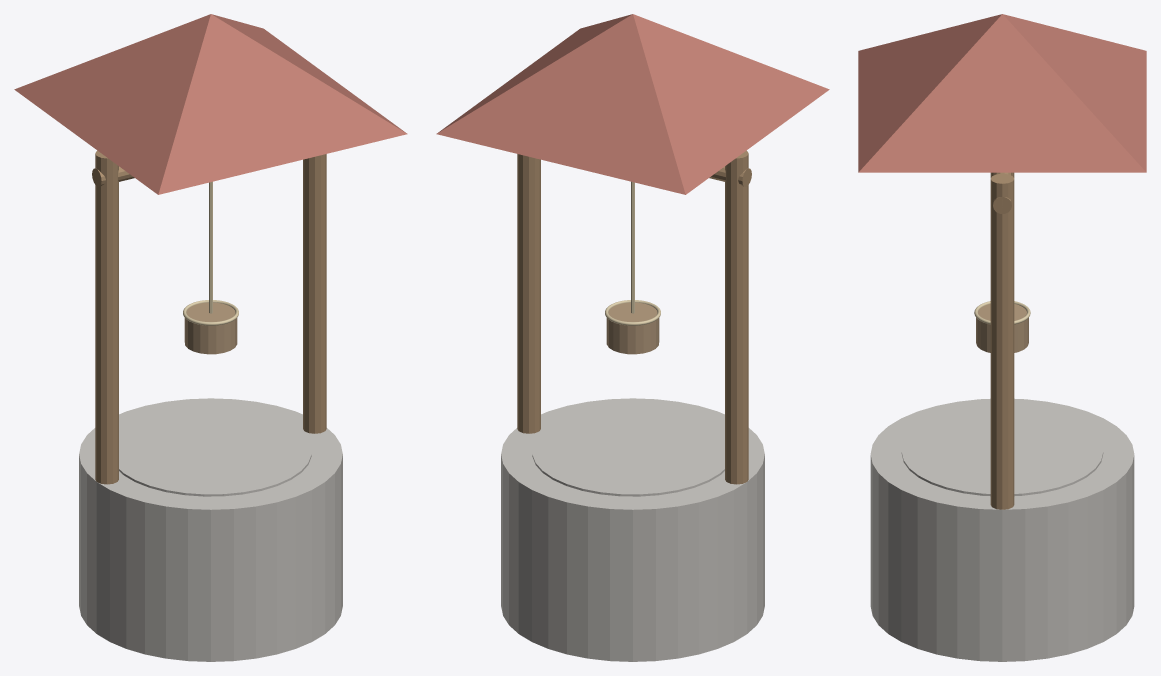
The model's file is wishing_well.glb.
3 views of the same model, side by side, from view 1: azimuth 30°, elevation 25°; view 2: azimuth 150°, elevation 25°; view 3: azimuth 270°, elevation 25° (orthographic).
Visible parts, largest first — view 1: Well_StoneRing, Well_Roof, Well_Hollow, Well_Post_-0.5, Well_Post_0.5, Well_Bucket; view 2: Well_StoneRing, Well_Roof, Well_Hollow, Well_Post_-0.5, Well_Post_0.5, Well_Bucket; view 3: Well_StoneRing, Well_Roof, Well_Hollow, Well_Post_0.5, Well_Bucket.
Part boxes in pixels (<box>): Well_StoneRing: <box>79,398,342,661</box>; Well_Roof: <box>14,14,407,194</box>; Well_Hollow: <box>119,409,311,496</box>; Well_Post_-0.5: <box>95,150,118,484</box>; Well_Post_0.5: <box>303,154,326,433</box>; Well_Bucket: <box>184,302,237,354</box>; Well_StoneRing: <box>501,398,764,661</box>; Well_Roof: <box>436,14,829,194</box>; Well_Hollow: <box>532,409,724,496</box>; Well_Post_-0.5: <box>725,150,748,484</box>; Well_Post_0.5: <box>517,154,540,433</box>; Well_Bucket: <box>606,302,659,354</box>; Well_StoneRing: <box>870,398,1134,661</box>; Well_Roof: <box>858,14,1146,172</box>; Well_Hollow: <box>901,410,1103,496</box>; Well_Post_0.5: <box>990,173,1014,509</box>; Well_Bucket: <box>976,304,1028,352</box>.
Bounding box in the file's own units: 1.2 × 2.74 × 1.2.
